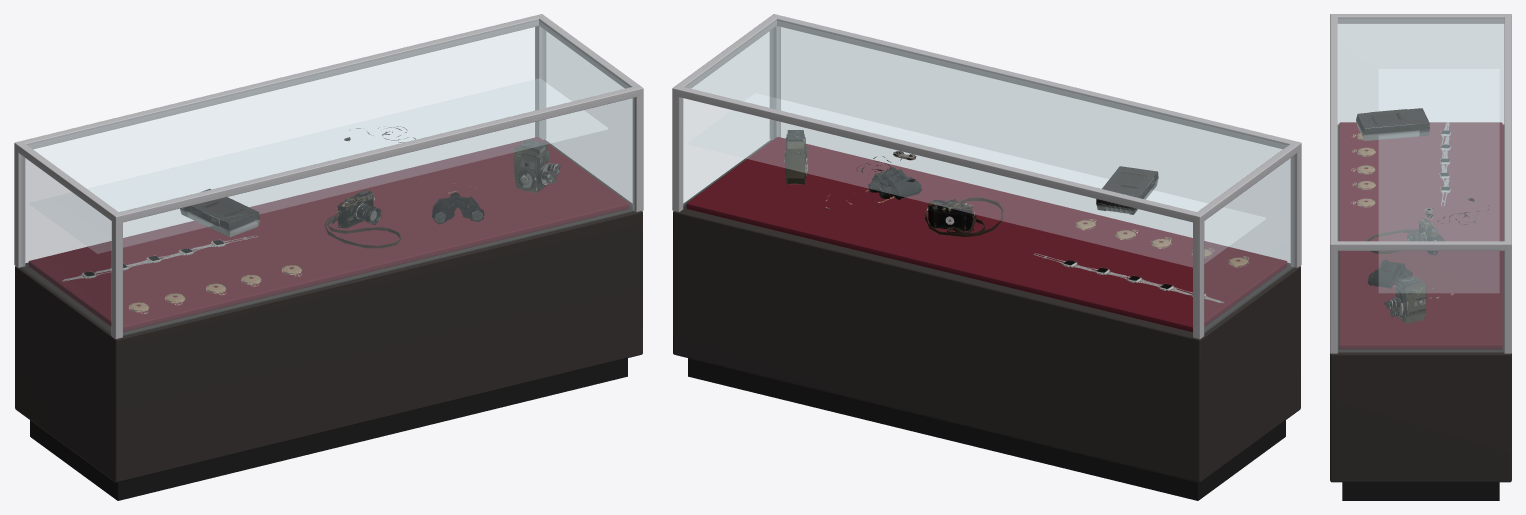
The model's file is display_counter.glb.
3 views of the same model, side by side, from view 1: azimuth 30°, elevation 25°; view 2: azimuth 150°, elevation 25°; view 3: azimuth 270°, elevation 25° (orthographic). The views are drawn at different scales.
Visible parts, largest first — view 1: display_counter, display_counter_glass, display_counter_goods; view 2: display_counter, display_counter_glass, display_counter_goods; view 3: display_counter, display_counter_glass, display_counter_goods.
Part boxes in pixels (x1,y1,x2,y2): display_counter: (14, 14, 643, 500); display_counter_glass: (21, 19, 634, 335); display_counter_goods: (62, 126, 560, 313); display_counter: (672, 14, 1301, 500); display_counter_glass: (683, 19, 1294, 332); display_counter_goods: (783, 130, 1248, 303); display_counter: (1330, 14, 1511, 500); display_counter_glass: (1337, 18, 1504, 352); display_counter_goods: (1351, 108, 1488, 323).
Size of the model in its own units: 1.8 by 0.95 by 0.5999.
Materials: 22 (14 with a texture image).
